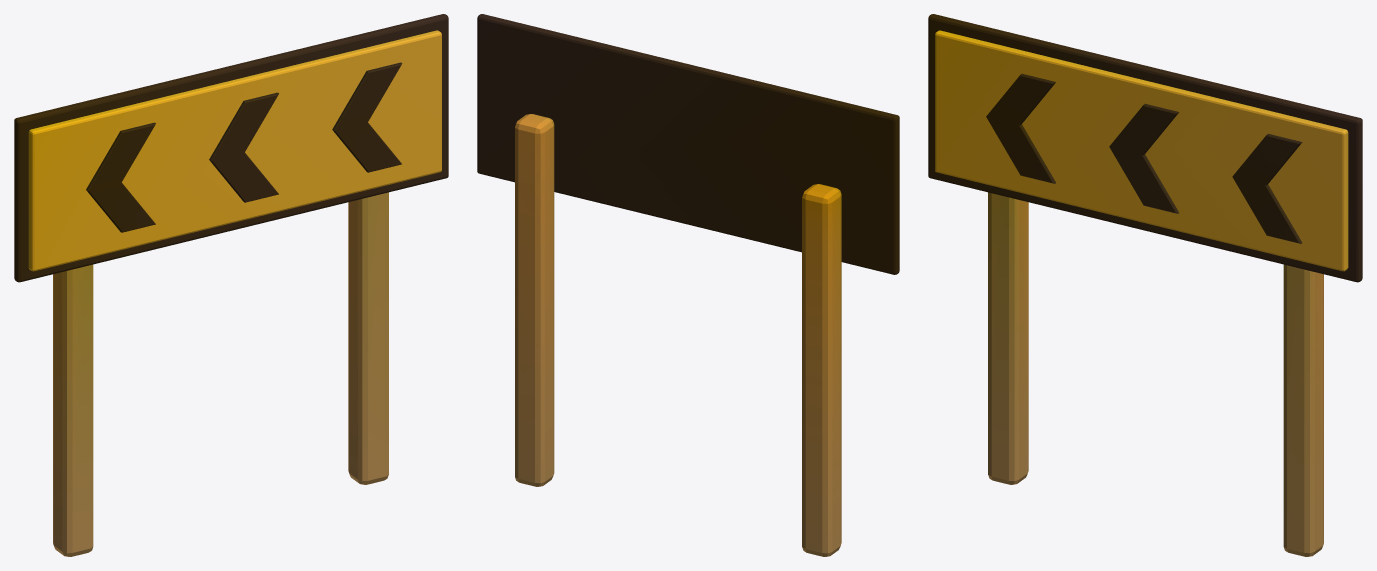
File: Sign_Chevron_01.glb
The picture shows the model from 3 angles, left to right: view 1: azimuth 30°, elevation 25°; view 2: azimuth 150°, elevation 25°; view 3: azimuth 330°, elevation 25°; orthographic projection. The views are drawn at different scales.
Visible parts, largest first — view 1: Sign_Chevron_01; view 2: Sign_Chevron_01; view 3: Sign_Chevron_01.
Boxes of the visible parts, bbox=[...] form: Sign_Chevron_01: bbox=[14, 14, 448, 556]; Sign_Chevron_01: bbox=[477, 14, 899, 556]; Sign_Chevron_01: bbox=[928, 14, 1362, 556].
Bounding box in the file's own units: 2 × 2.02 × 0.215.
